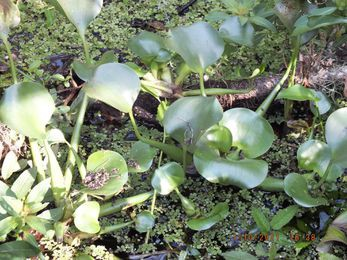water_hyacinth: (1, 18, 347, 239)
